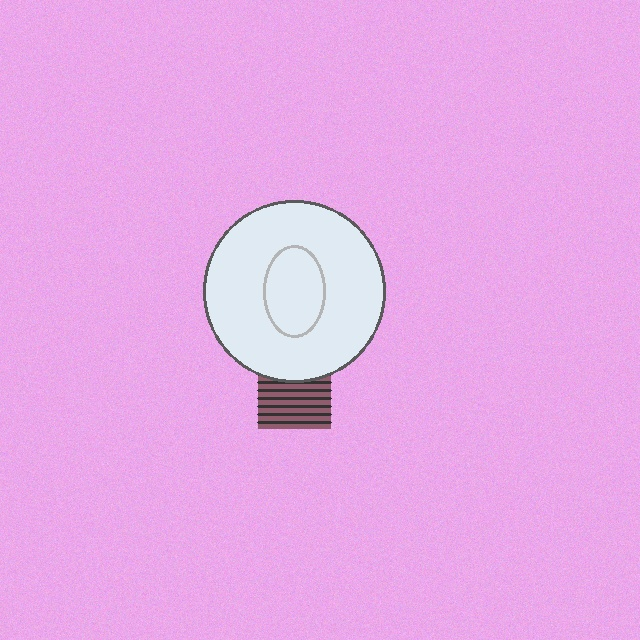bulb: (199, 196, 389, 433)
